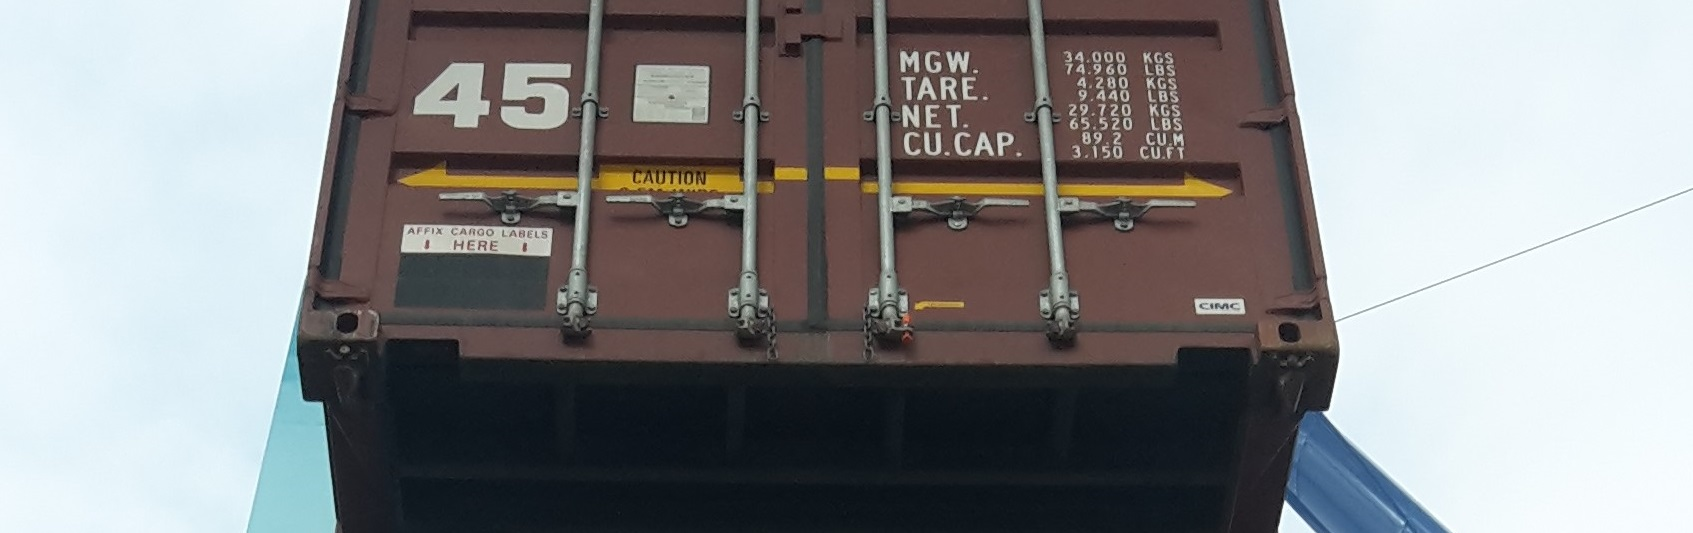container_door: (297, 1, 1311, 373)
